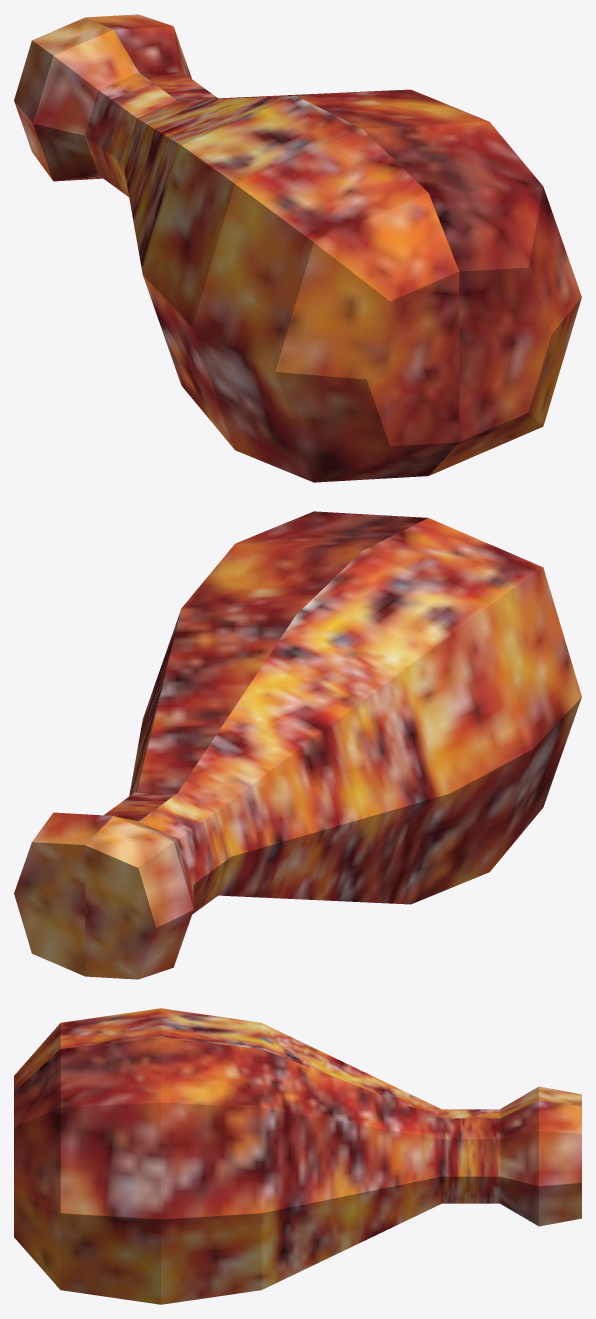
The model's file is Drumstick.fbx.
3 views of the same model, one above another, from view 1: azimuth 30°, elevation 25°; view 2: azimuth 150°, elevation 25°; view 3: azimuth 270°, elevation 25° (orthographic). The views are drawn at different scales.
Visible parts, largest first — view 1: Cube; view 2: Cube; view 3: Cube.
Part boxes in pixels (<box>): Cube: <box>14,14,581,482</box>; Cube: <box>14,511,581,979</box>; Cube: <box>14,1008,581,1304</box>.
Bounding box in the file's own units: 69.29 × 61.12 × 132.
Materials: 1 (1 with a texture image).
